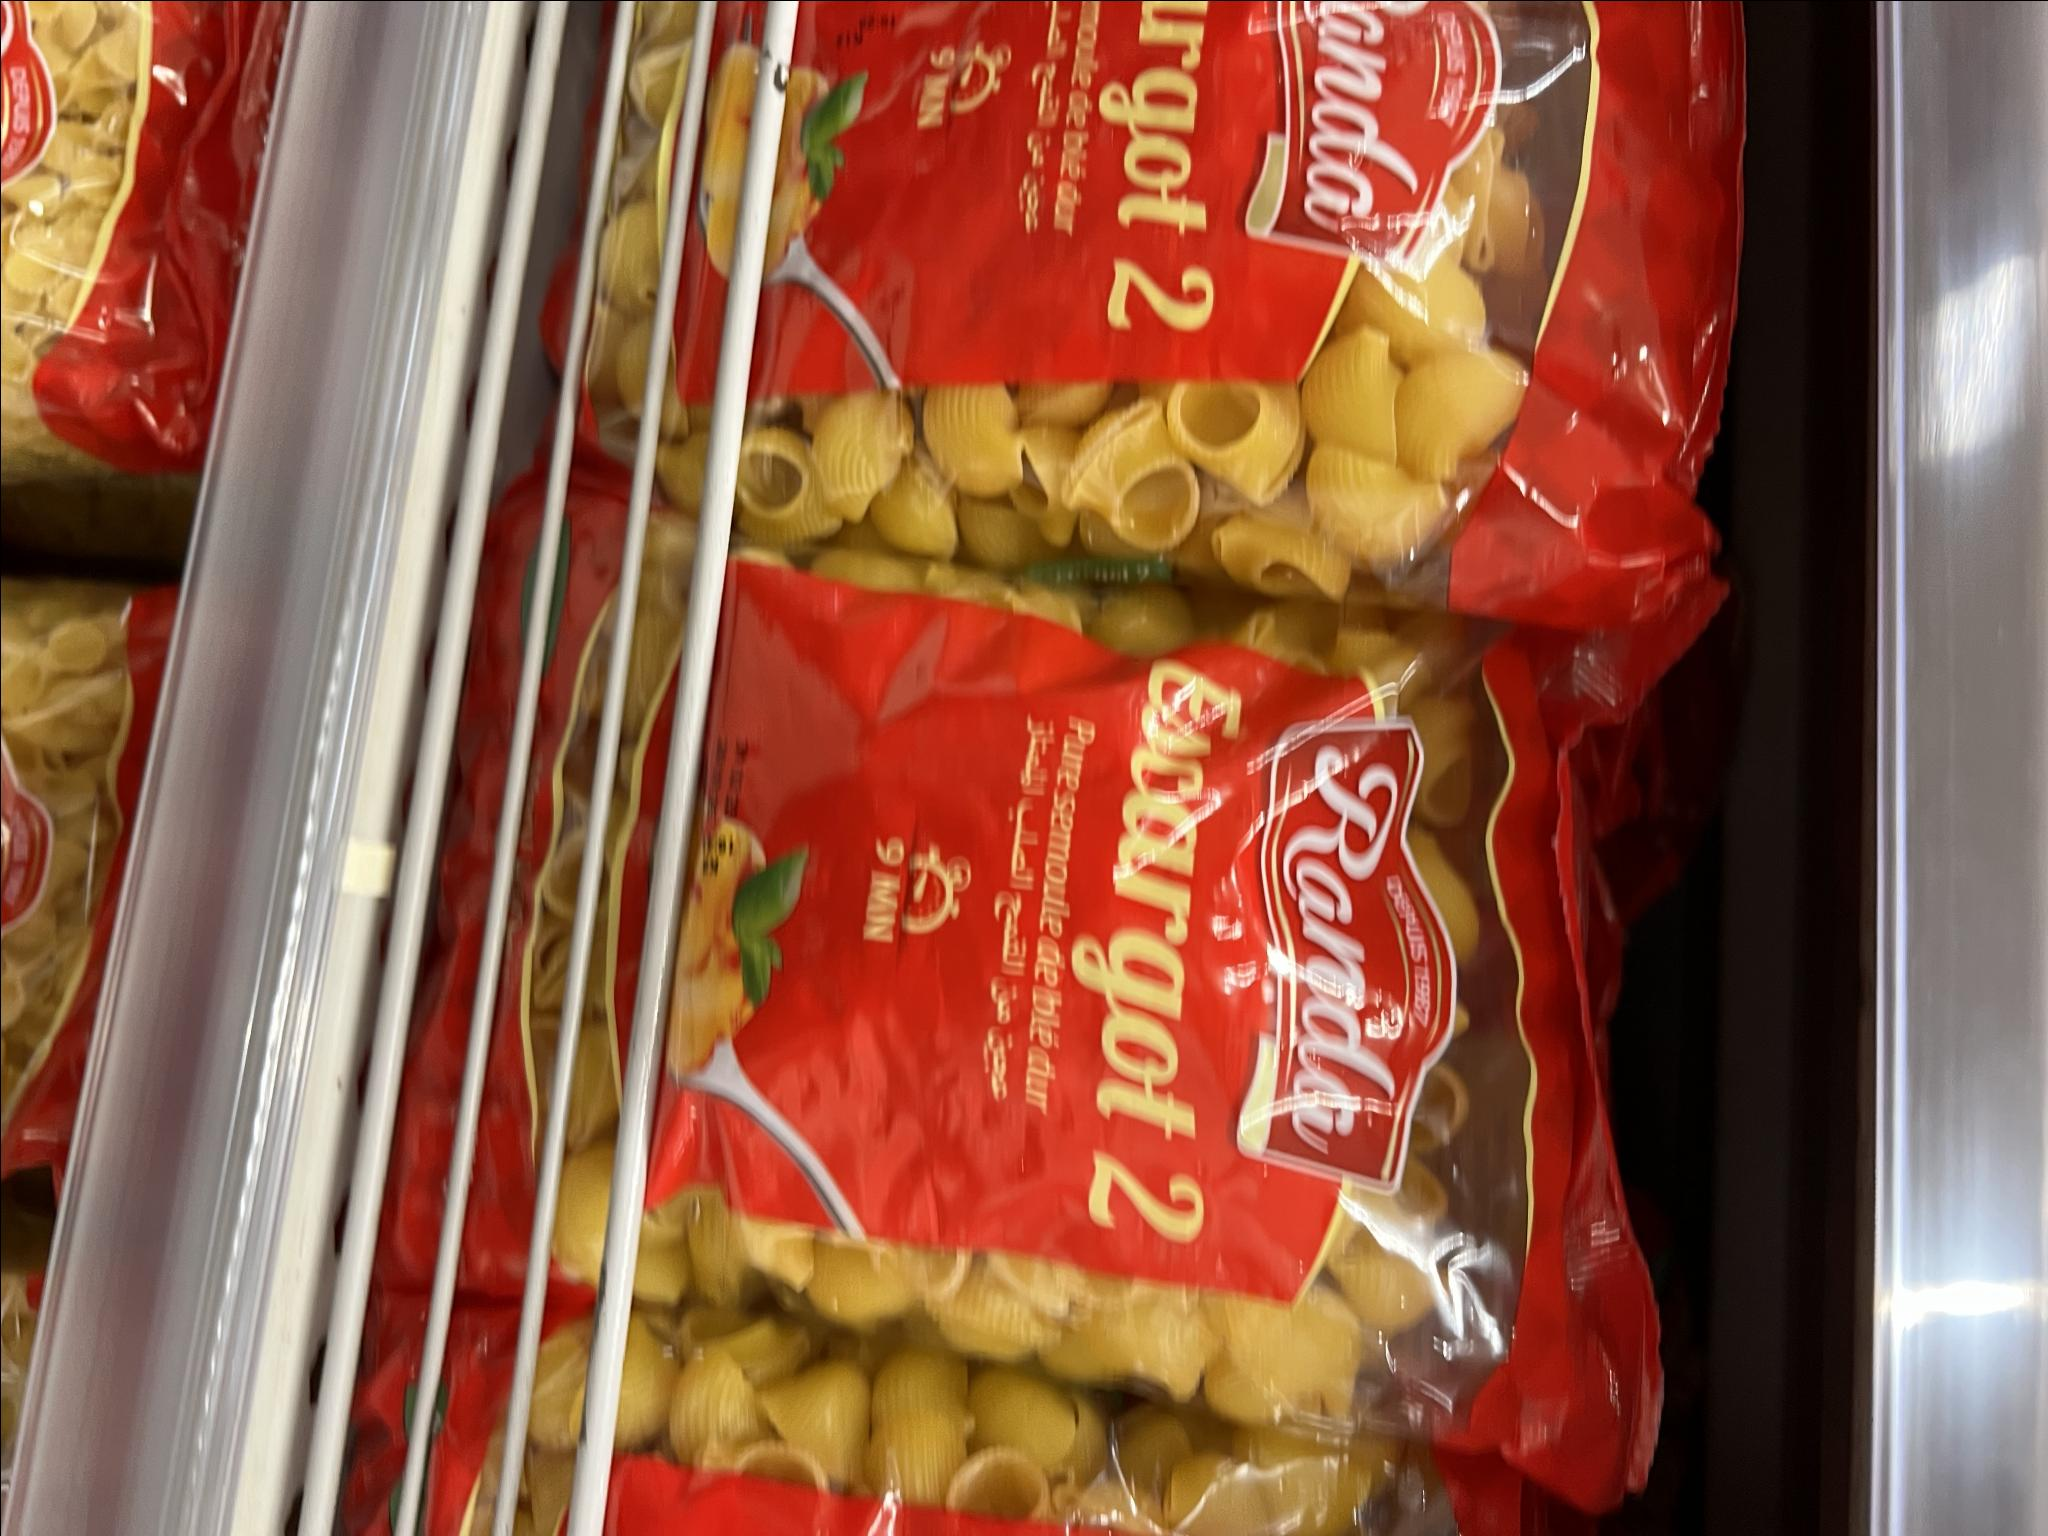Escargot: (411, 620, 1706, 1517), (527, 0, 1772, 650)
